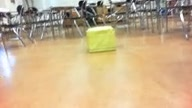cube: (86, 25, 115, 53)
